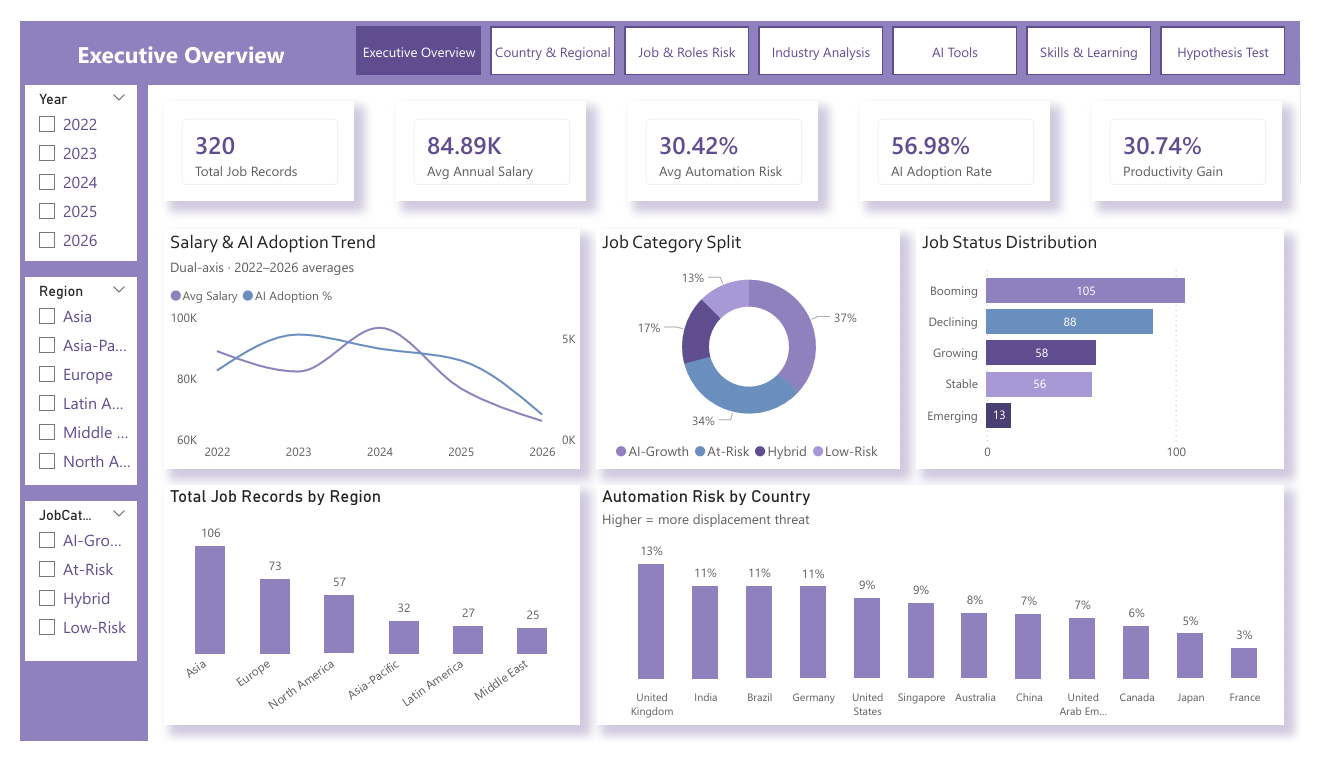

Layout of this report page (visuals, bound fields, positions):
{"tool":"powerbi","page":{"name":"Executive Overview","canvas":[1280,720],"ordinal":0},"visuals":[{"type":"shape","box":[0,0,1280,64],"z":0},{"type":"shape","box":[0,64,128,656],"z":1000},{"type":"cardVisual","fields":{"Data":["Measure.Total Job Records"]},"box":[144,80,190,100],"z":2000},{"type":"cardVisual","fields":{"Data":["Measure.Avg Annual Salary"]},"box":[376,80,190,100],"z":3000},{"type":"cardVisual","fields":{"Data":["Measure.Avg Automation Risk"]},"box":[608,80,190,100],"z":4000},{"type":"cardVisual","fields":{"Data":["Measure.AI Adoption Rate"]},"box":[840,80,190,100],"z":5000},{"type":"cardVisual","fields":{"Data":["Measure.Productivity Gain"]},"box":[1072,80,190,100],"z":6000},{"type":"lineChart","title":"Salary & AI Adoption Trend","fields":{"Category":["Dim_Date.Year"],"Y":["Measure.Avg Annual Salary"],"Y2":["Sum(Fact_JobsAI.AIAdoption%)"]},"box":[144,208,416,240],"z":7000},{"type":"donutChart","title":"Job Category Split","fields":{"Category":["Fact_JobsAI.JobCategory"],"Y":["Measure.Total Job Records"]},"box":[576,208,304,240],"z":8000},{"type":"barChart","title":"Job Status Distribution","fields":{"Category":["Fact_JobsAI.JobStatus2025"],"Y":["Measure.Total Job Records"],"Series":["Fact_JobsAI.JobStatus2025"]},"box":[896,208,368,240],"z":9000},{"type":"clusteredColumnChart","title":"Automation Risk by Country","fields":{"Category":["Fact_JobsAI.CountryName"],"Y":["Sum(Fact_JobsAI.AutomationRisk%)"]},"box":[576,464,688,240],"z":10000},{"type":"clusteredColumnChart","fields":{"Category":["Fact_JobsAI.Region"],"Y":["Measure.Total Job Records"]},"box":[144,464,416,240],"z":11000},{"type":"slicer","fields":{"Values":["Dim_Date.Year"]},"box":[5,64,112,176],"z":12000},{"type":"slicer","fields":{"Values":["Fact_JobsAI.Region"]},"box":[5,256,112,208],"z":13000},{"type":"slicer","fields":{"Values":["Fact_JobsAI.JobCategory"]},"box":[5,480,112,160],"z":14000},{"type":"shape","box":[0,0,320,64],"z":15000},{"type":"pageNavigator","box":[336,5,928,48],"z":16000}]}

Visuals, with their boxes in screenshot pixels (x1, y1, x2, y2), scaled from the page's 1280x720 canvas onto the 1323x765 screenshot:
shape: left=0, top=0, right=1322, bottom=68
shape: left=0, top=68, right=132, bottom=764
cardVisual - Measure.Total Job Records: left=149, top=85, right=345, bottom=191
cardVisual - Measure.Avg Annual Salary: left=389, top=85, right=585, bottom=191
cardVisual - Measure.Avg Automation Risk: left=628, top=85, right=825, bottom=191
cardVisual - Measure.AI Adoption Rate: left=868, top=85, right=1065, bottom=191
cardVisual - Measure.Productivity Gain: left=1108, top=85, right=1304, bottom=191
"Salary & AI Adoption Trend" lineChart: left=149, top=221, right=579, bottom=476
"Job Category Split" donutChart: left=595, top=221, right=910, bottom=476
"Job Status Distribution" barChart: left=926, top=221, right=1306, bottom=476
"Automation Risk by Country" clusteredColumnChart: left=595, top=493, right=1306, bottom=748
clusteredColumnChart - Fact_JobsAI.Region x Measure.Total Job Records: left=149, top=493, right=579, bottom=748
slicer - Dim_Date.Year: left=5, top=68, right=121, bottom=255
slicer - Fact_JobsAI.Region: left=5, top=272, right=121, bottom=493
slicer - Fact_JobsAI.JobCategory: left=5, top=510, right=121, bottom=680
shape: left=0, top=0, right=331, bottom=68
pageNavigator: left=347, top=5, right=1306, bottom=56
